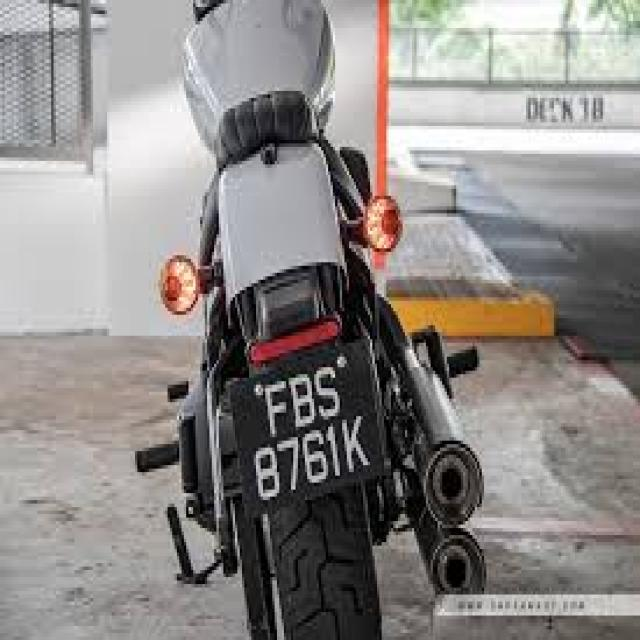number_plate: (182, 345, 407, 515)
